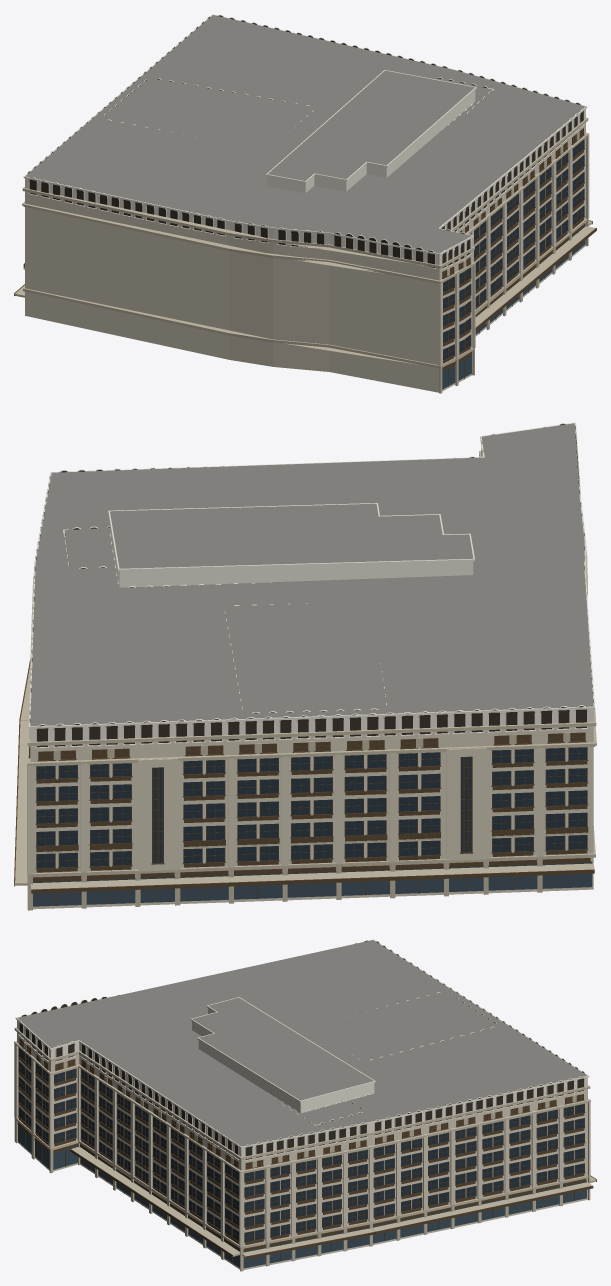
The model's file is derry_and_toms.glb.
3 views of the same model, one above another, from view 1: azimuth 30°, elevation 25°; view 2: azimuth 150°, elevation 25°; view 3: azimuth 270°, elevation 25° (orthographic). The views are drawn at different scales.
Size of the model in its own units: 105 by 32.27 by 119.
